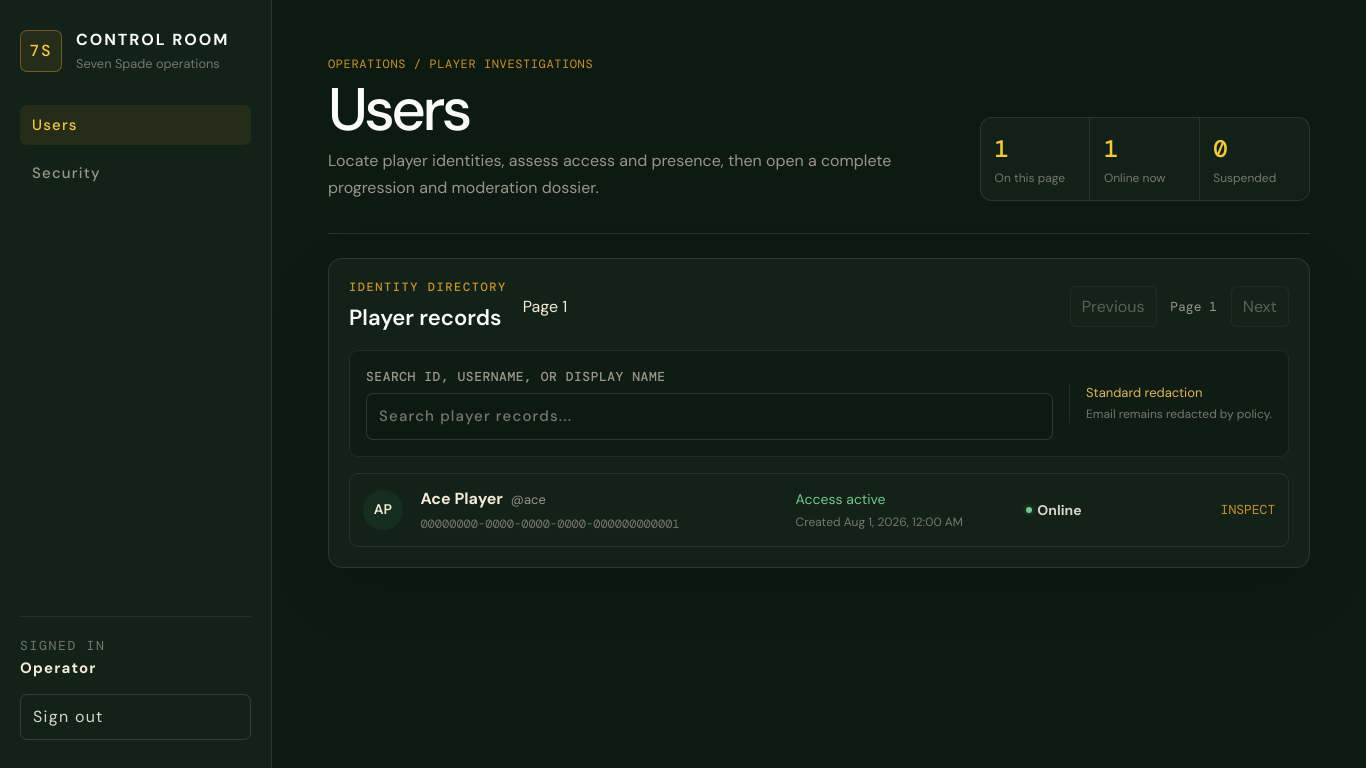
Test: operator searches a player and inspects redacted progression data
The image size is (1366, 768).
Expected: the heading "Users" is shown, 328,70 -> 469,149
Click the link "Ace Player": (819, 510) 349,473 -> 1289,547
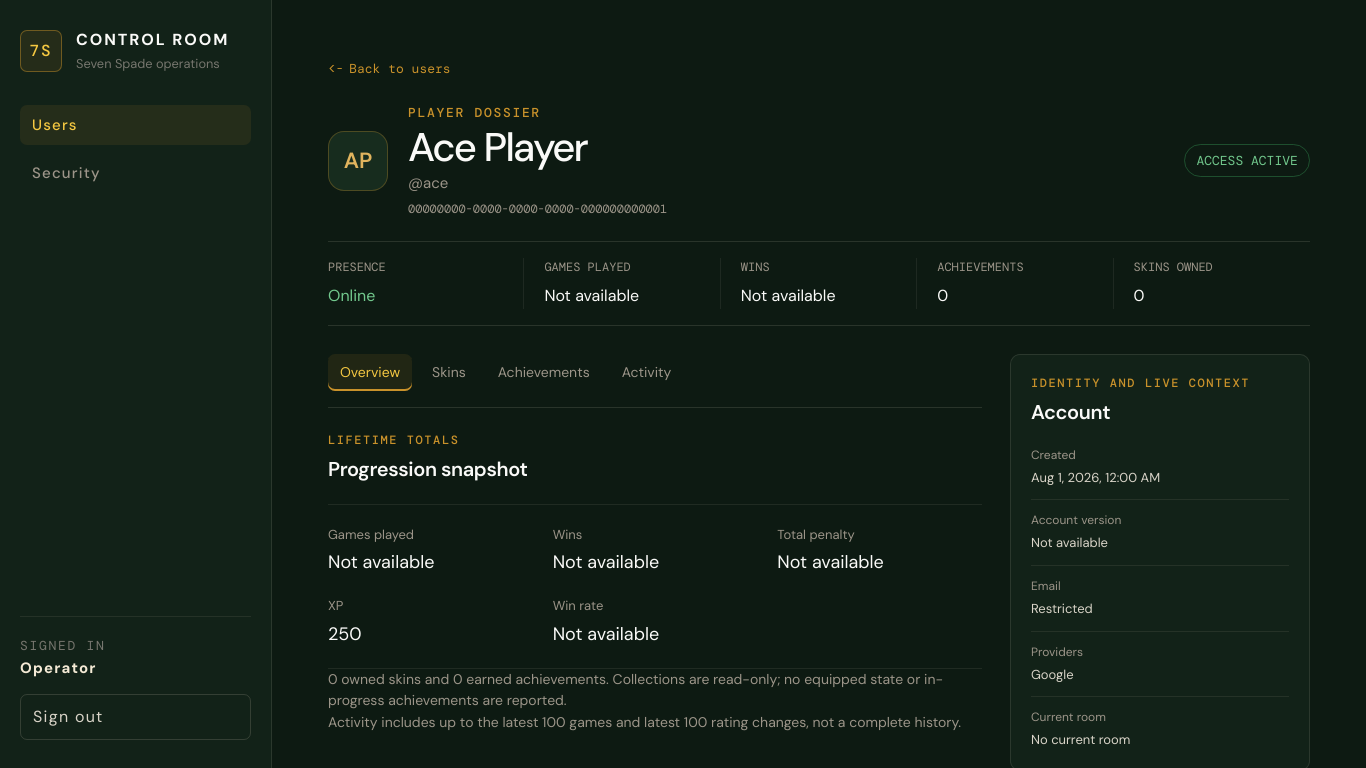
Expected: the heading "Ace Player" is shown, 408,121 -> 587,173
Expected: the text "XP" is shown, 328,597 -> 343,614
Expected: the text "250" is shown, 328,622 -> 362,646
